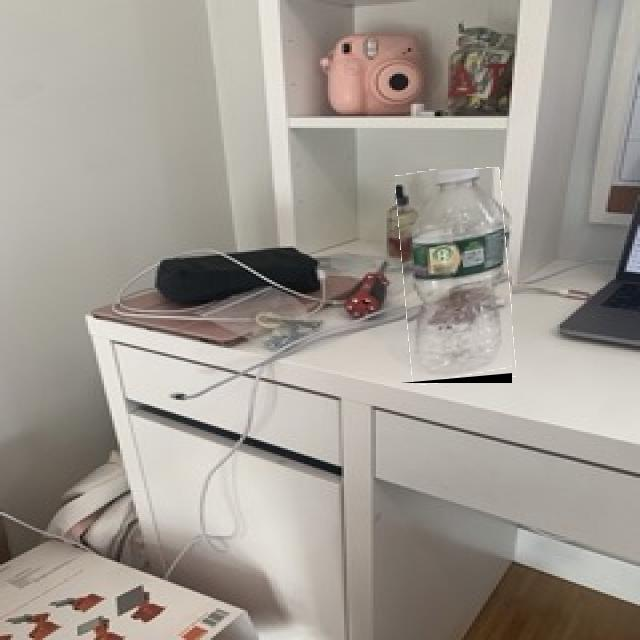water_bottle: (400, 169, 512, 383)
